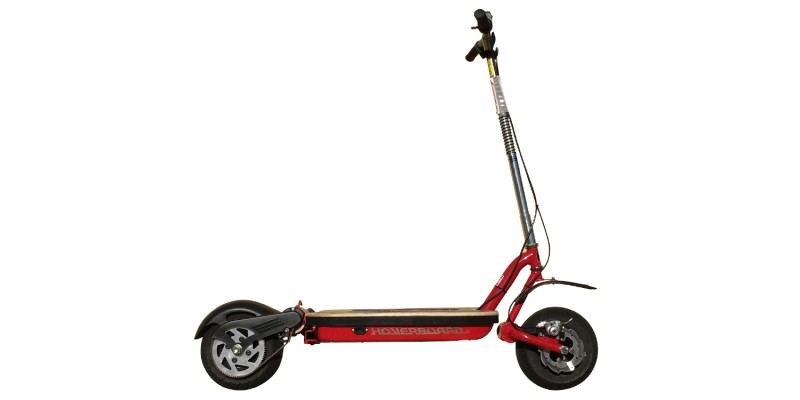scooter: (198, 4, 597, 400)
